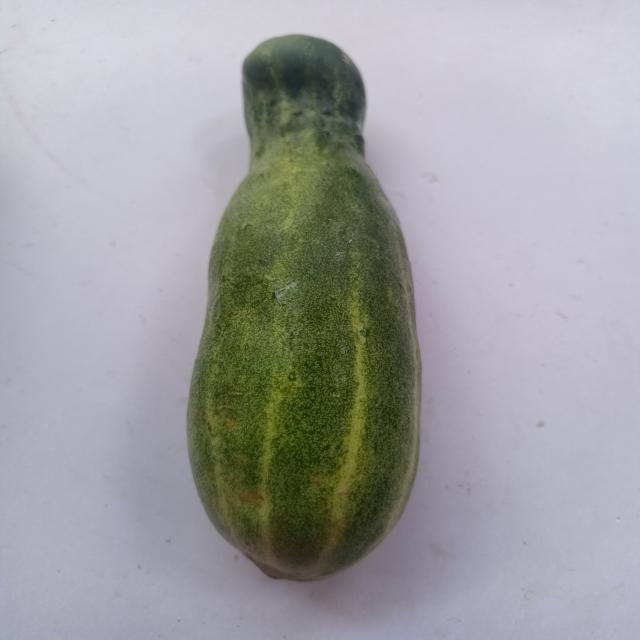Cucumber: (138, 25, 487, 610)
